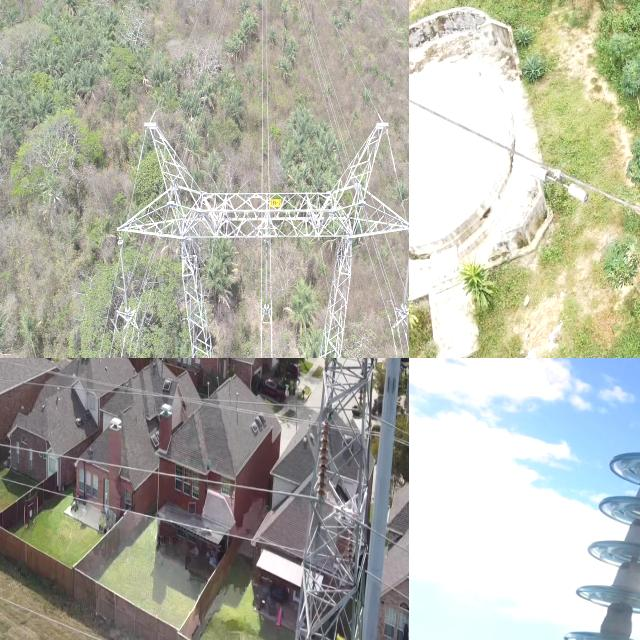杆塔: (117, 98, 409, 358), (285, 358, 382, 640)
正常电缆: (409, 85, 640, 228)
正常绝缘子: (511, 439, 640, 640), (315, 401, 333, 508), (116, 235, 131, 316), (401, 235, 409, 313), (263, 237, 271, 312)
